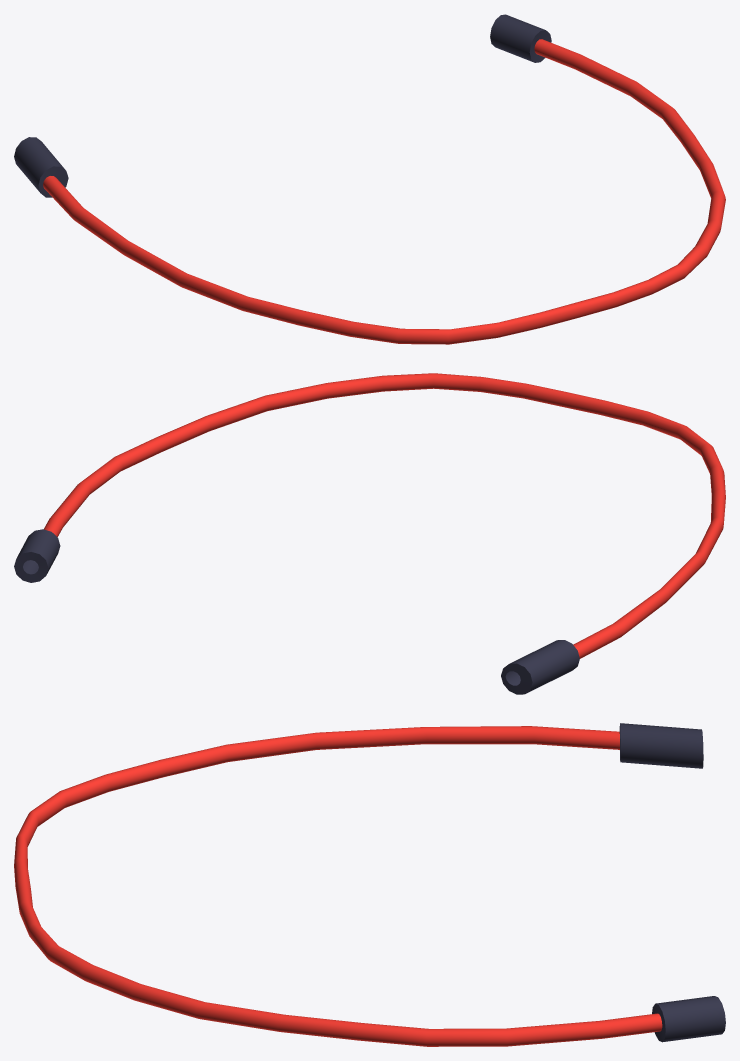
File: Rope.fbx
3 renders of one model, top to bottom at view 1: azimuth 30°, elevation 25°; view 2: azimuth 150°, elevation 25°; view 3: azimuth 270°, elevation 25°, orthographic. The views are drawn at different scales.
Visible parts, largest first — view 1: Rope; view 2: Rope; view 3: Rope.
Part boxes in pixels (x1,y1,x2,y2): Rope: (14,14,725,344); Rope: (14,373,725,694); Rope: (14,723,725,1046).
Bounding box in the file's own units: 48.9 × 2.62 × 47.42.
